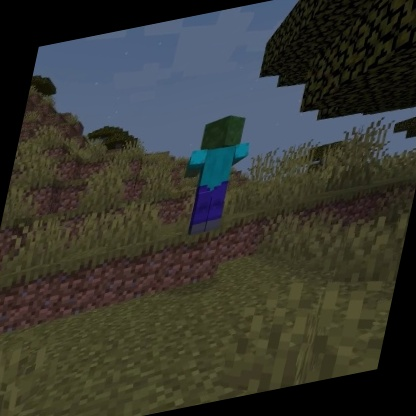zombie: (167, 107, 261, 245)
